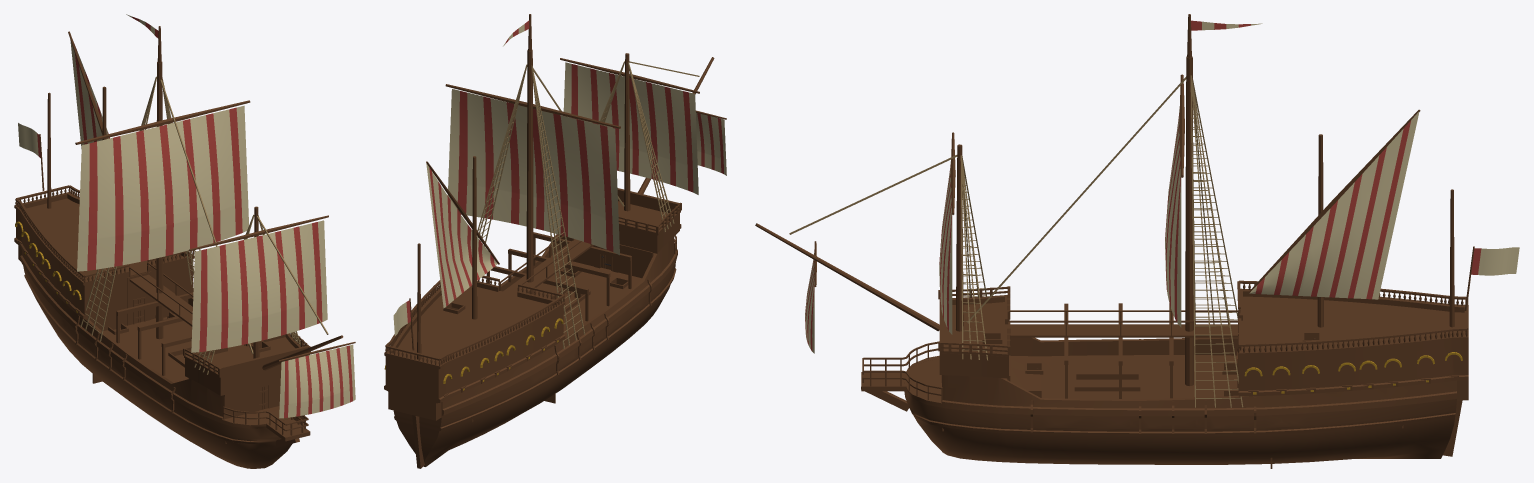
Rendered from vehicule--caraque.glb.
3 renders of one model, left to right at view 1: azimuth 30°, elevation 25°; view 2: azimuth 150°, elevation 25°; view 3: azimuth 270°, elevation 25°, orthographic. The views are drawn at different scales.
Parts seen in each view (by area): view 1: coque, grand_mat, misaine, beaupre, grand_mat_arriere, sans-sabord, avec-sabord, artimon; view 2: coque, grand_mat, misaine, grand_mat_arriere, beaupre, sans-sabord, avec-sabord, artimon; view 3: coque, grand_mat_arriere, grand_mat, misaine, sans-sabord, beaupre, avec-sabord.
Part boxes in pixels (x1,y1,x2,y2): coque: (14,76,328,468); grand_mat: (75,14,250,339); misaine: (189,206,328,358); beaupre: (262,335,355,418); grand_mat_arriere: (68,31,109,148); sans-sabord: (19,228,162,402); avec-sabord: (15,221,81,312); artimon: (47,92,51,208); coque: (384,61,699,468); grand_mat: (445,14,620,294); misaine: (560,53,699,211); grand_mat_arriere: (426,156,499,319); beaupre: (637,57,726,193); sans-sabord: (443,300,640,392); avec-sabord: (384,318,563,396); artimon: (417,243,421,359); coque: (789,75,1519,468); grand_mat_arriere: (1248,109,1420,327); grand_mat: (1165,14,1262,385); misaine: (939,132,963,334); sans-sabord: (1055,360,1459,429); beaupre: (755,223,939,353); avec-sabord: (1244,352,1462,395).
Size of the model in its own units: 14.5 by 29.8 by 46.57.
